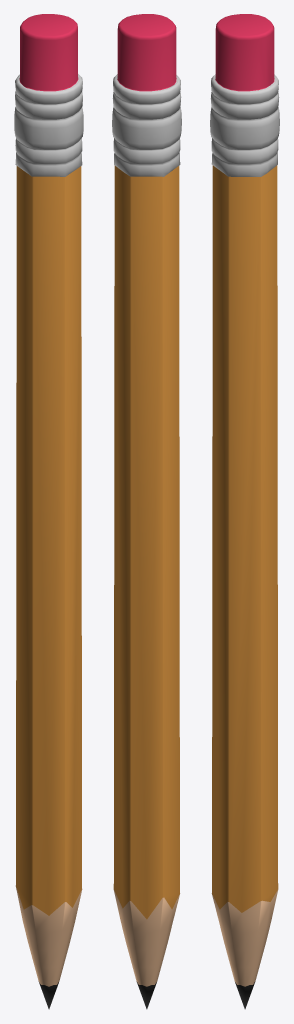
Rendered from pencil.glb.
3 views of the same model, side by side, from view 1: azimuth 30°, elevation 25°; view 2: azimuth 150°, elevation 25°; view 3: azimuth 330°, elevation 25° (orthographic).
Visible parts, largest first — view 1: pencil_2; view 2: pencil_2; view 3: pencil_2.
Boxes of the visible parts, x1,y1,x2,y2 form: pencil_2: (14, 14, 83, 1009); pencil_2: (112, 14, 181, 1009); pencil_2: (210, 14, 279, 1009).
Bounding box in the file's own units: 0.0486 × 0.7792 × 0.0498.
4 materials, 4 textured.
